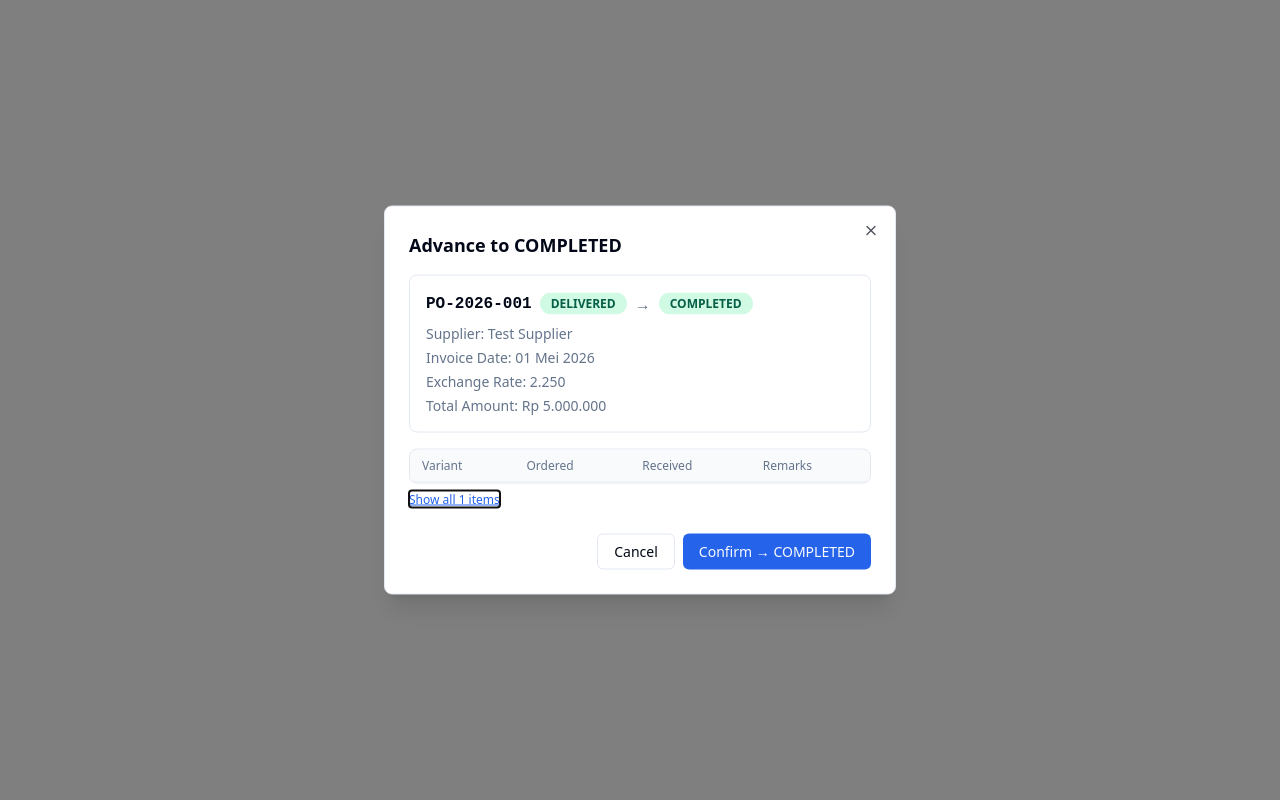
Test: COMPLETED transition — remarks for qty discrepancy › does not block Confirm when a non-discrepant row's remarks is left empty
Click the button "Show all 1 items". click: click(454, 500)
box: [409, 492, 500, 508]
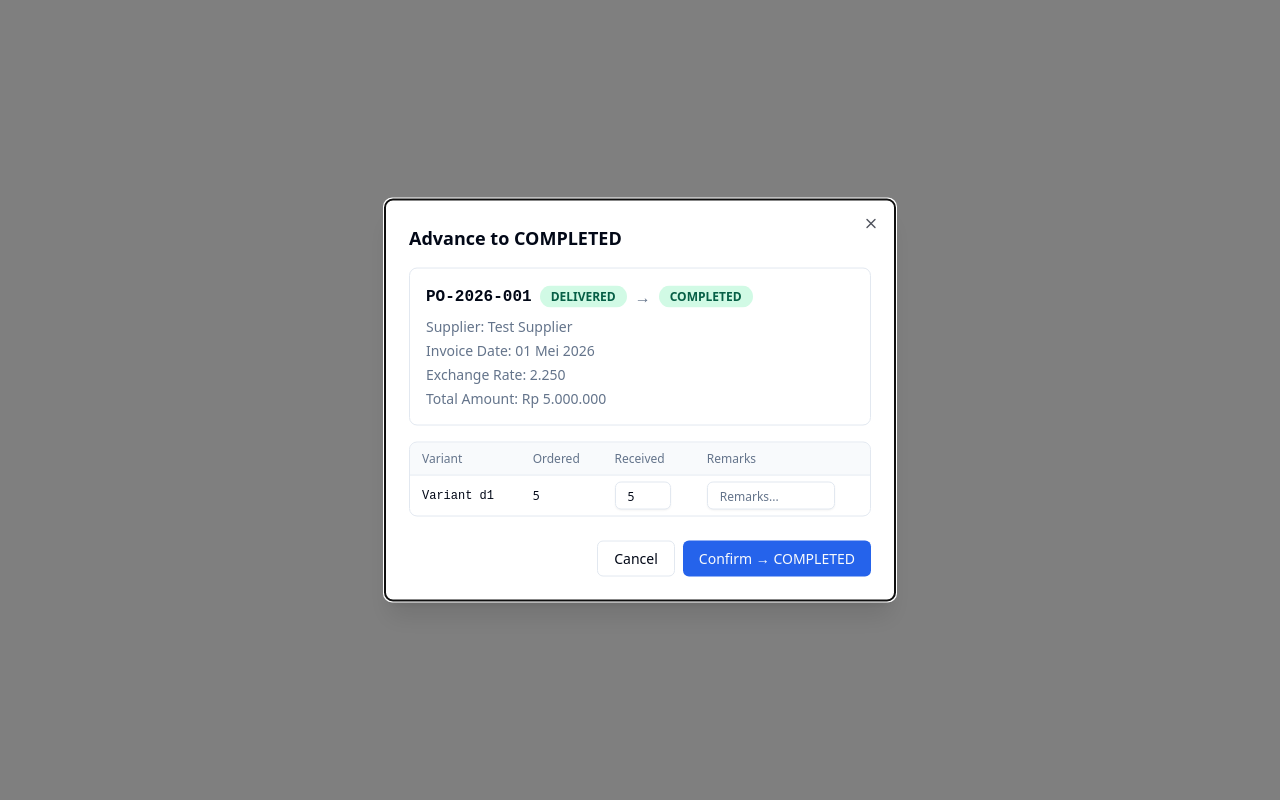
Expected: the button "Confirm → COMPLETED" is enabled, [683, 540, 871, 576]
Result: the field with placeholder "Remarks..." is shown at [707, 482, 835, 510]
